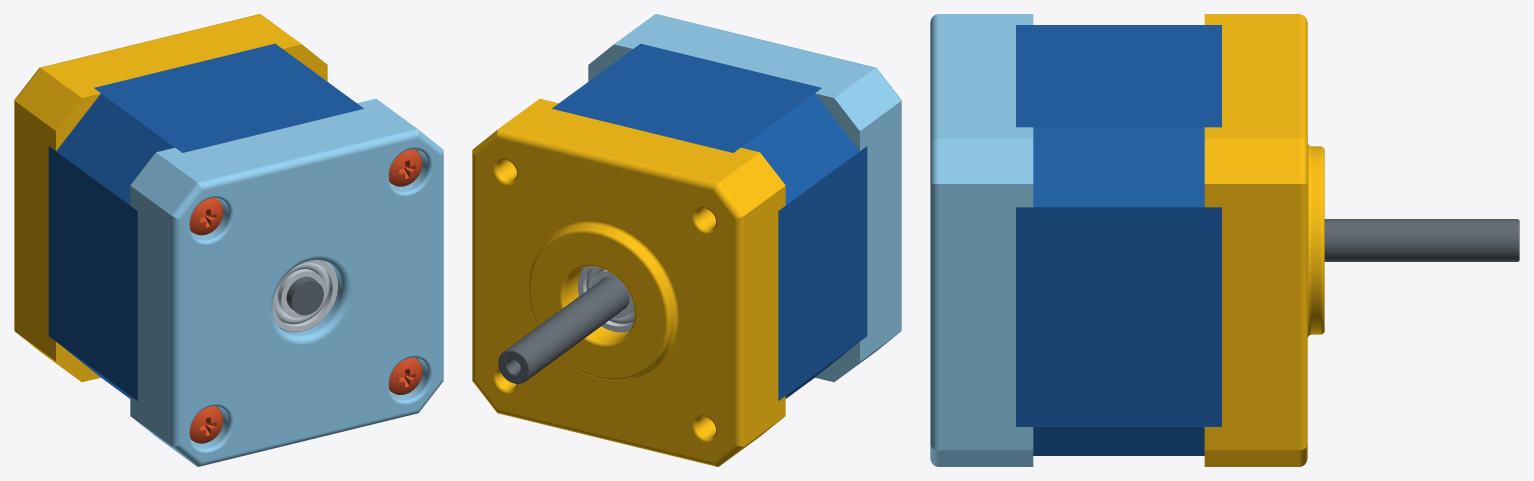
The model's file is motor_assembly.obj.
3 views of the same model, side by side, from view 1: azimuth 30°, elevation 25°; view 2: azimuth 150°, elevation 25°; view 3: azimuth 270°, elevation 25° (orthographic). The views are drawn at different scales.
Visible parts, largest first — view 1: mesh87, mesh141, mesh143, mesh49, mesh103, mesh54, mesh98, mesh142, mesh5, mesh89, mesh90, mesh42 (+17 smaller); view 2: mesh38, mesh141, mesh143, mesh77, mesh103, mesh49, mesh54, mesh98, mesh142, mesh133, mesh41, mesh40 (+14 smaller); view 3: mesh147, mesh60, mesh109, mesh143, mesh146, mesh54, mesh98, mesh133, mesh148, mesh53, mesh97, mesh52 (+8 smaller).
Part boxes in pixels (x1,y1,x2,y2): mesh87: (181, 138, 439, 461); mesh141: (48, 146, 137, 400); mesh143: (94, 43, 363, 152); mesh49: (15, 101, 55, 361); mesh103: (130, 186, 170, 445); mesh54: (41, 14, 301, 97); mesh98: (156, 98, 416, 181); mesh142: (56, 93, 174, 205); mesh5: (189, 150, 421, 442); mesh89: (197, 128, 418, 190); mesh90: (171, 215, 180, 446); mesh42: (15, 68, 81, 130); mesh38: (476, 138, 734, 461); mesh141: (778, 146, 867, 400); mesh143: (552, 43, 821, 152); mesh77: (530, 233, 665, 377); mesh103: (860, 101, 900, 361); mesh49: (745, 186, 785, 445); mesh54: (499, 98, 759, 181); mesh98: (614, 14, 874, 97); mesh142: (741, 93, 859, 205); mesh133: (505, 277, 629, 379); mesh41: (497, 128, 718, 190); mesh40: (735, 215, 744, 446); mesh147: (1016, 207, 1221, 426); mesh60: (1204, 184, 1298, 450); mesh109: (939, 184, 1033, 450); mesh143: (1016, 25, 1221, 127); mesh146: (1033, 127, 1204, 207); mesh54: (1204, 14, 1298, 138); mesh98: (939, 14, 1033, 138); mesh133: (1324, 219, 1517, 261); mesh148: (1033, 427, 1204, 455); mesh53: (1204, 138, 1298, 183); mesh97: (939, 138, 1033, 183); mesh52: (1299, 183, 1307, 450).
Bounding box in the file's own units: 0.0423 × 0.0423 × 0.0687.
